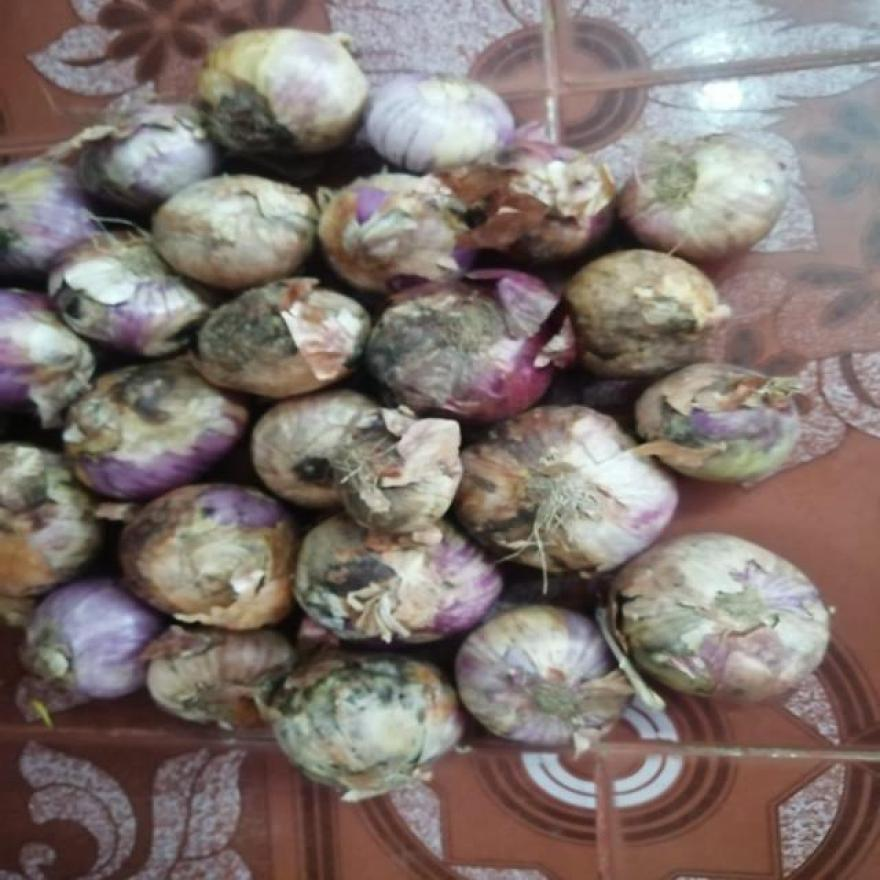Rotten: (389, 313, 499, 390), (275, 668, 415, 724), (193, 304, 303, 374), (93, 368, 184, 435), (316, 540, 406, 605), (214, 88, 292, 158), (7, 453, 54, 522), (648, 397, 693, 458)
